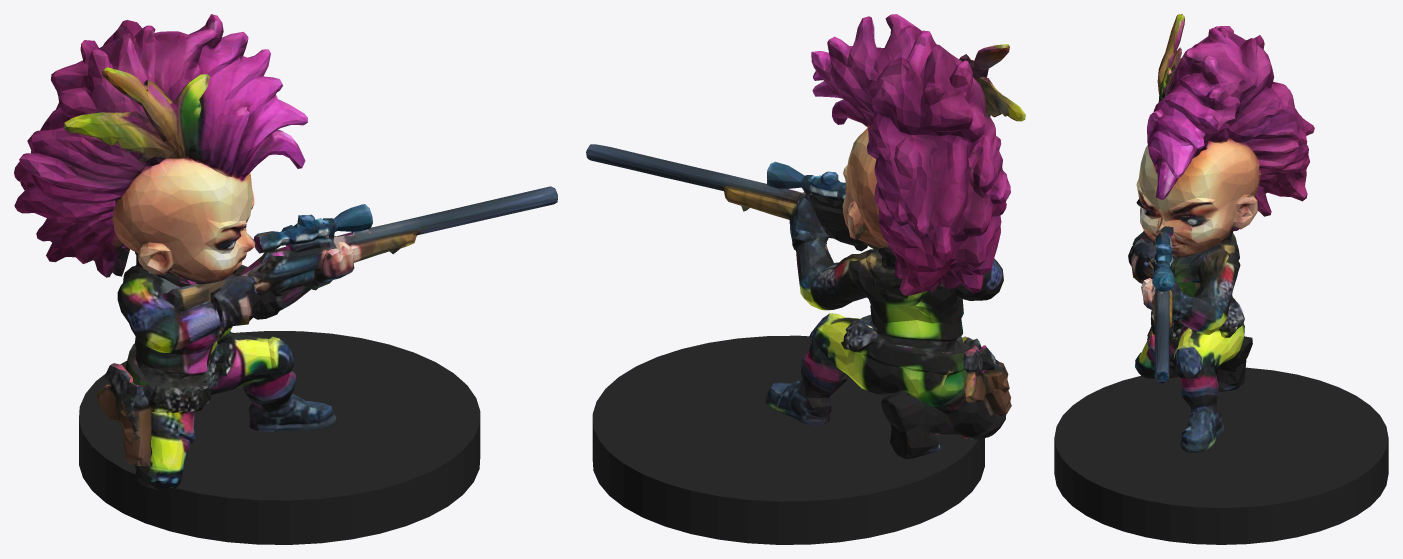
File: escher-sister-specialist-needle-rifle.glb
The picture shows the model from 3 angles, left to right: view 1: azimuth 30°, elevation 25°; view 2: azimuth 150°, elevation 25°; view 3: azimuth 270°, elevation 25°; orthographic projection. The views are drawn at different scales.
Parts seen in each view (by area): view 1: figure, base; view 2: figure, base; view 3: base, figure.
Boxes of the visible parts, box(x1,y1,x2,y2) form: figure: box(14, 14, 557, 489); base: box(79, 331, 480, 544); figure: box(586, 14, 1025, 459); base: box(592, 335, 984, 544); base: box(1054, 367, 1388, 544); figure: box(1128, 14, 1314, 452).
Bounding box in the file's own units: 1.36 × 1.27 × 0.9843.
Materials: 2 (1 with a texture image).
